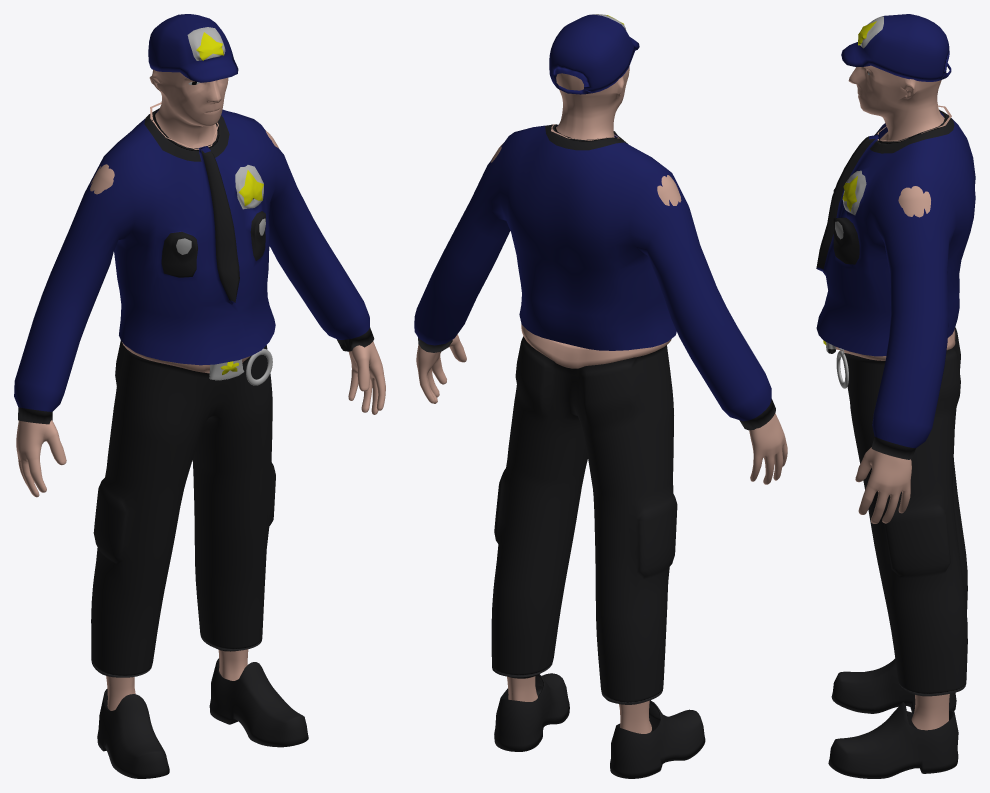
The model's file is canhsat.fbx.
The picture shows the model from 3 angles, left to right: view 1: azimuth 30°, elevation 25°; view 2: azimuth 150°, elevation 25°; view 3: azimuth 270°, elevation 25°; orthographic projection.
Visible parts, largest first — view 1: Canh_sat; view 2: Canh_sat; view 3: Canh_sat.
Boxes of the visible parts, <box> form: Canh_sat: <box>14,14,385,778</box>; Canh_sat: <box>414,14,787,778</box>; Canh_sat: <box>816,14,975,778</box>.
Bounding box in the file's own units: 2.68 × 5.13 × 1.03.
